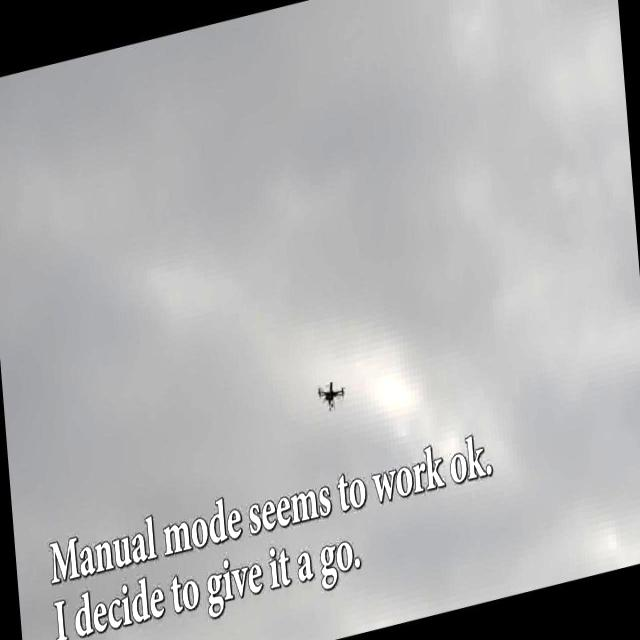drone: (314, 368, 347, 417)
